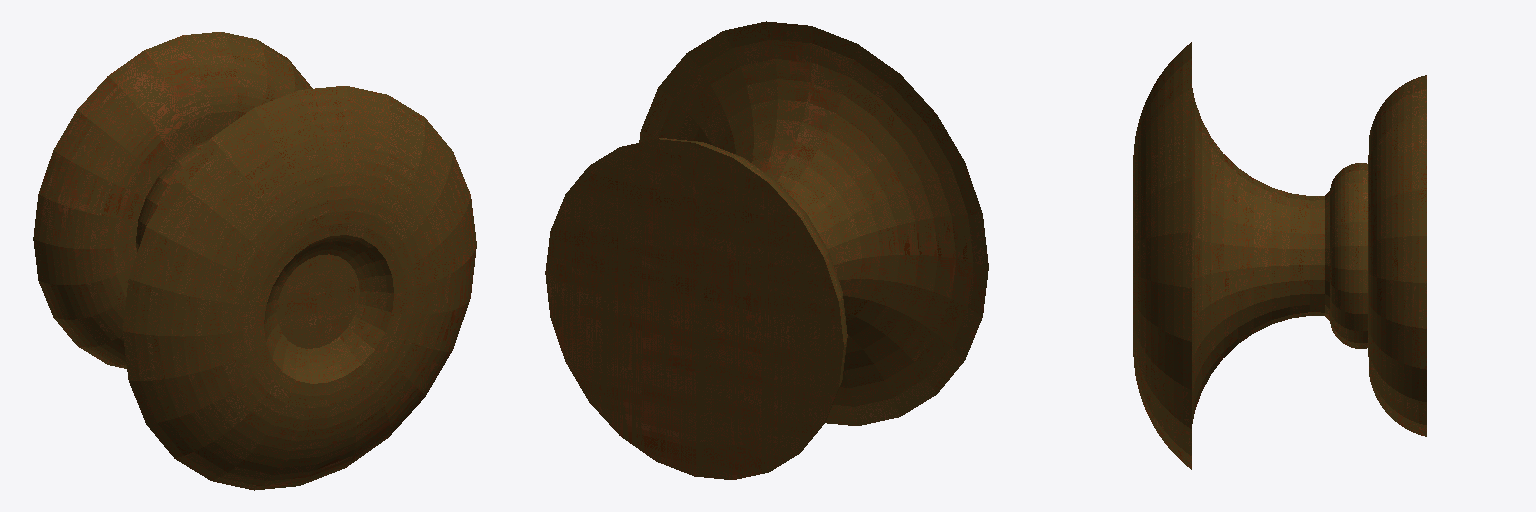
3 views of the same model, side by side, from view 1: azimuth 30°, elevation 25°; view 2: azimuth 150°, elevation 25°; view 3: azimuth 270°, elevation 25° (orthographic).
Visible parts, largest first — view 1: Componente_1_1/Componente_1/mesh1/mesh1-geometry#mesh1-geometry; view 2: Componente_1_1/Componente_1/mesh1/mesh1-geometry#mesh1-geometry; view 3: Componente_1_1/Componente_1/mesh1/mesh1-geometry#mesh1-geometry.
Part boxes in pixels (x1,y1,x2,y2): Componente_1_1/Componente_1/mesh1/mesh1-geometry#mesh1-geometry: (33,32,476,490); Componente_1_1/Componente_1/mesh1/mesh1-geometry#mesh1-geometry: (545,21,988,479); Componente_1_1/Componente_1/mesh1/mesh1-geometry#mesh1-geometry: (1133,42,1426,469).
Bounding box in the file's own units: 0.0384 × 0.041 × 0.0275.
Materials: 2 (1 with a texture image).